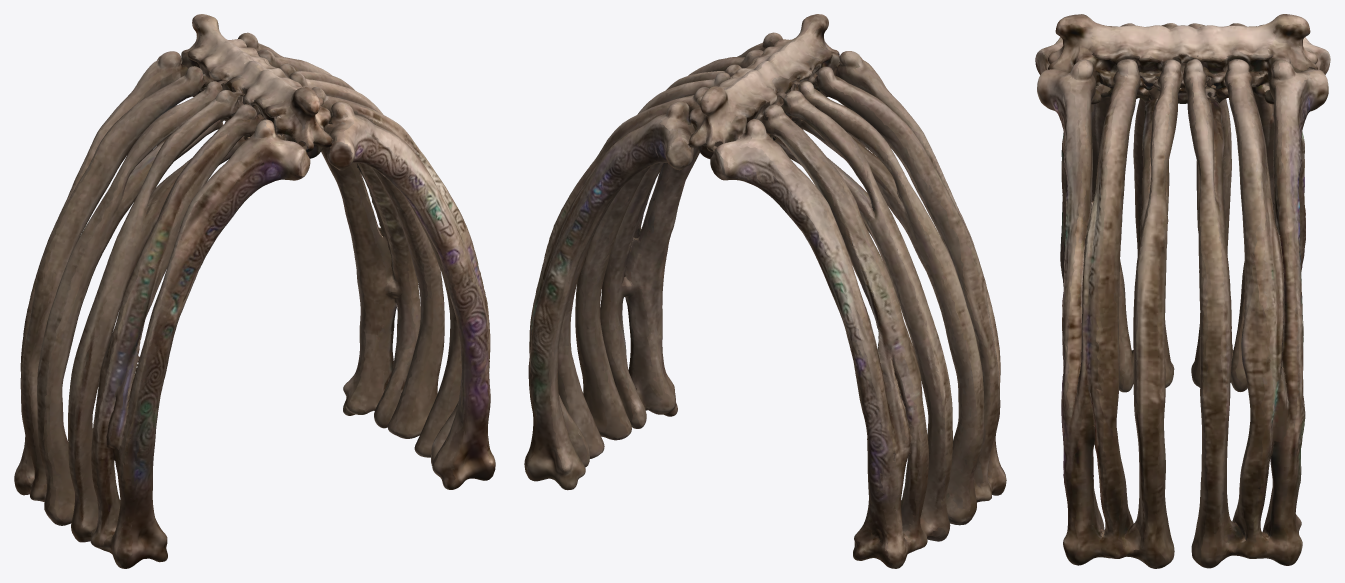
The model's file is ribcage.glb.
3 views of the same model, side by side, from view 1: azimuth 30°, elevation 25°; view 2: azimuth 150°, elevation 25°; view 3: azimuth 270°, elevation 25° (orthographic). The views are drawn at different scales.
Parts seen in each view (by area): view 1: geometry_0; view 2: geometry_0; view 3: geometry_0.
Part boxes in pixels (x1,y1,x2,y2): geometry_0: (14,14,495,568); geometry_0: (524,14,1006,568); geometry_0: (1035,14,1330,568).
Bounding box in the file's own units: 3.39 × 3.5 × 2.04.
Materials: 1 (1 with a texture image).
